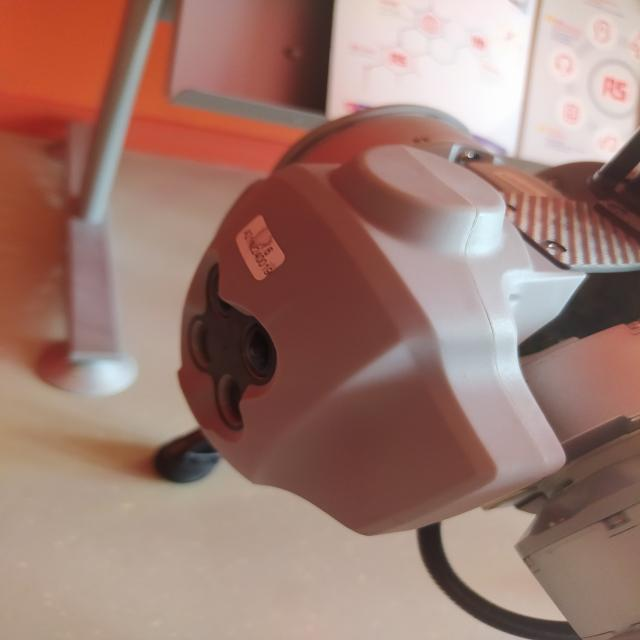unitree-go1-robot: (156, 97, 640, 640)
